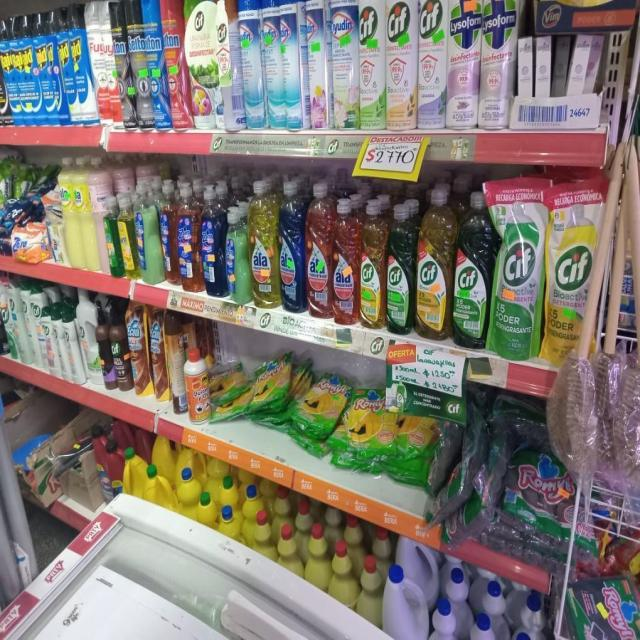ala_conc_amarillo: (250, 179, 278, 310)
ala_conc_azul: (279, 179, 304, 315)
ala_conc_rojo: (306, 180, 331, 320), (332, 197, 359, 326)
ala_crem_amarillo: (62, 156, 79, 268)
cif_conc_bot_amarilla: (416, 185, 452, 340), (360, 198, 385, 328)
cif_conc_botella_verde: (452, 190, 490, 348), (386, 200, 414, 334)
cif_conc_sachet_amarillo: (546, 180, 597, 365)
cif_conc_sachet_verde: (492, 177, 543, 360)
